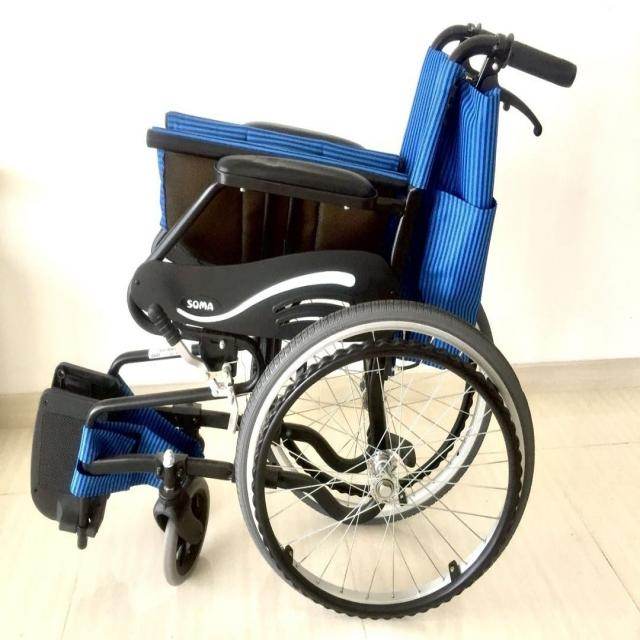wheelchair: (23, 14, 617, 639)
